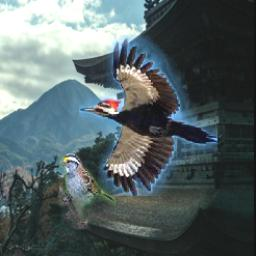Sparrow: (59, 152, 116, 229)
Woodpecker: (80, 36, 219, 197)
